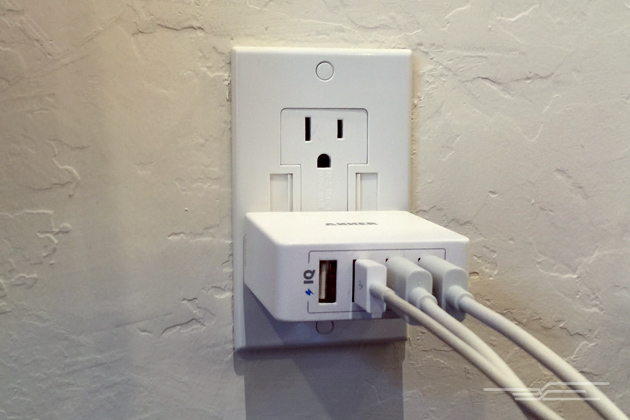outlet: (296, 110, 352, 173)
